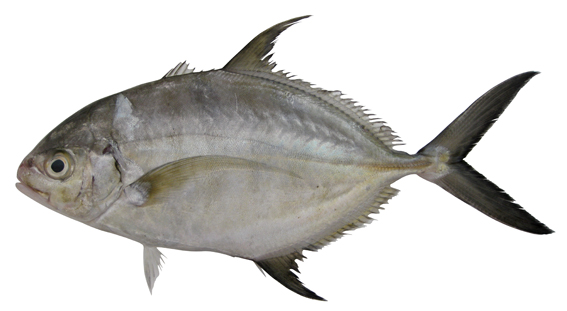fish: (16, 14, 556, 301)
